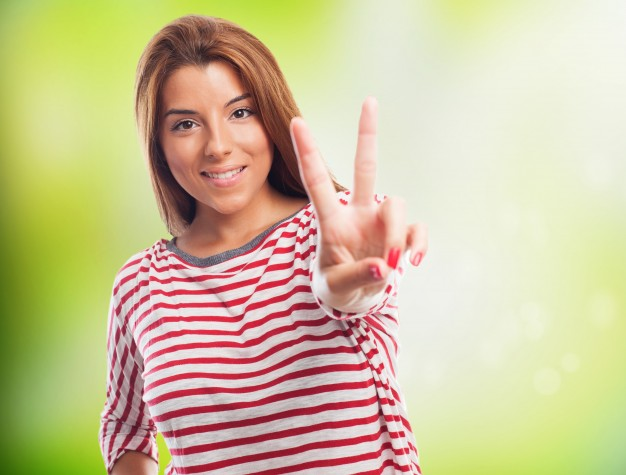face: (160, 54, 278, 215)
hand: (289, 95, 432, 315)
